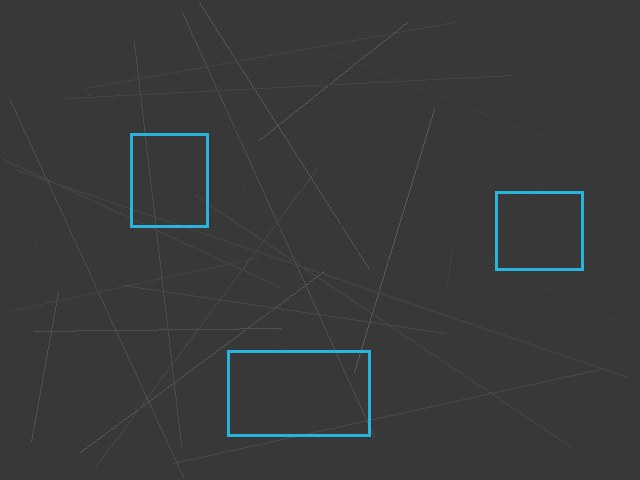D10: (227, 350, 370, 436), (130, 133, 208, 227), (495, 191, 583, 270)
